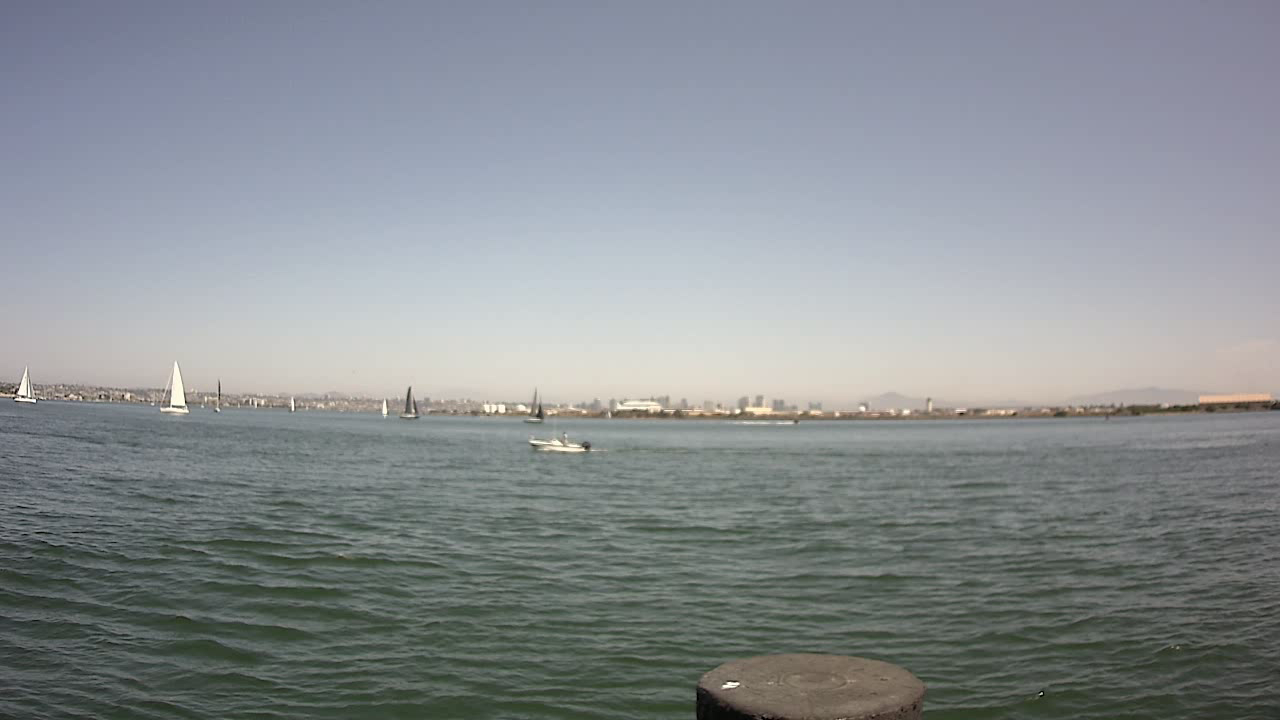target: (526, 426, 596, 458)
